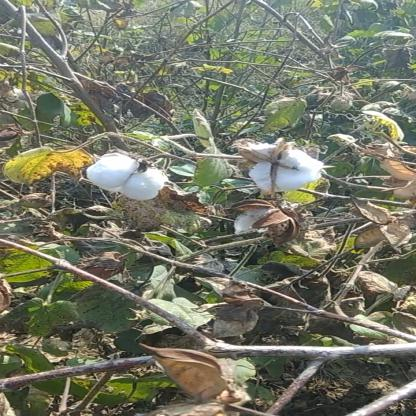cotton_ready: (233, 137, 322, 201), (92, 150, 171, 204)
